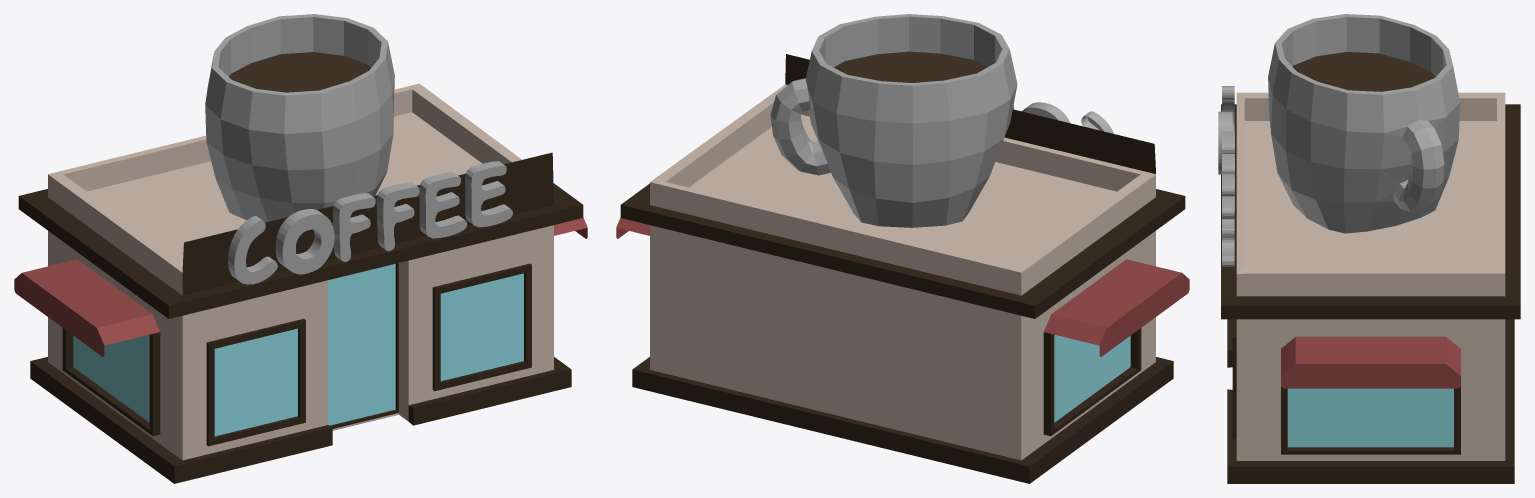
File: CoffeeShop.fbx
The picture shows the model from 3 angles, left to right: view 1: azimuth 30°, elevation 25°; view 2: azimuth 150°, elevation 25°; view 3: azimuth 270°, elevation 25°; orthographic projection.
Parts seen in each view (by area): view 1: Coffee; view 2: Coffee; view 3: Coffee.
Part boxes in pixels (x1,y1,x2,y2): Coffee: (14, 14, 587, 483); Coffee: (616, 14, 1189, 483); Coffee: (1218, 14, 1520, 483).
Size of the model in its own units: 7.2 by 4.72 by 3.91.
